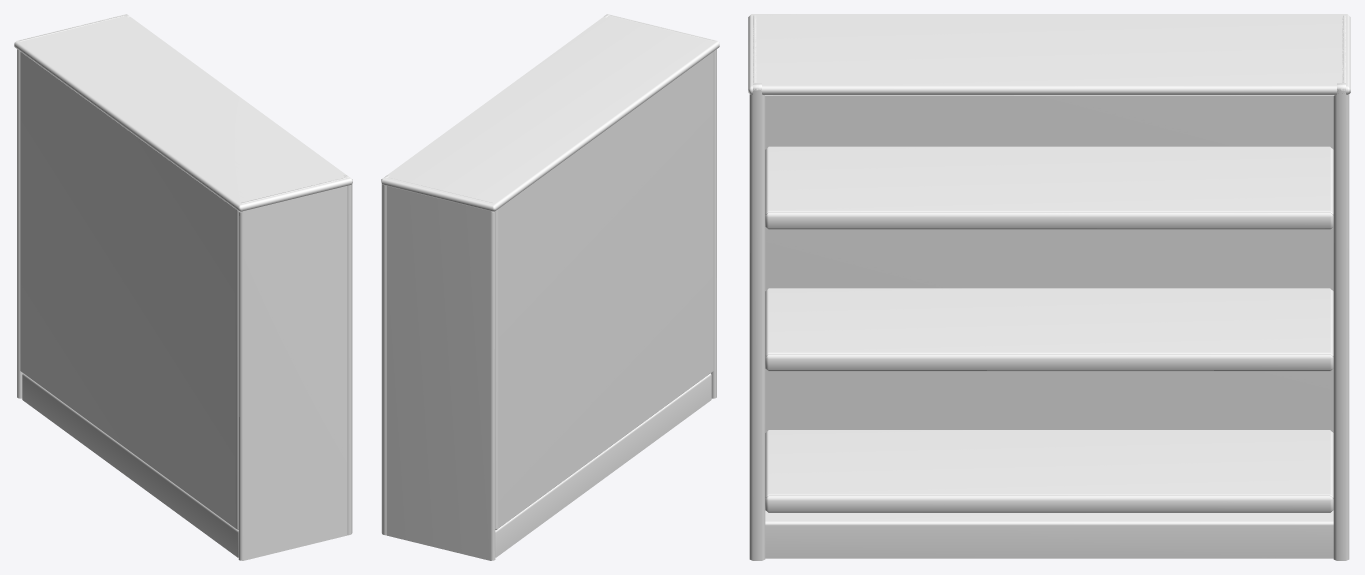
The model's file is rack.glb.
The picture shows the model from 3 angles, left to right: view 1: azimuth 30°, elevation 25°; view 2: azimuth 150°, elevation 25°; view 3: azimuth 270°, elevation 25°; orthographic projection. The views are drawn at different scales.
Visible parts, largest first — view 1: Rack; view 2: Rack; view 3: Rack.
Boxes of the visible parts, x1,y1,x2,y2 form: Rack: (14, 14, 352, 560); Rack: (381, 14, 719, 560); Rack: (748, 14, 1350, 560).
Size of the model in its own units: 0.62 by 1.84 by 2.12.
1 material, 1 textured.
